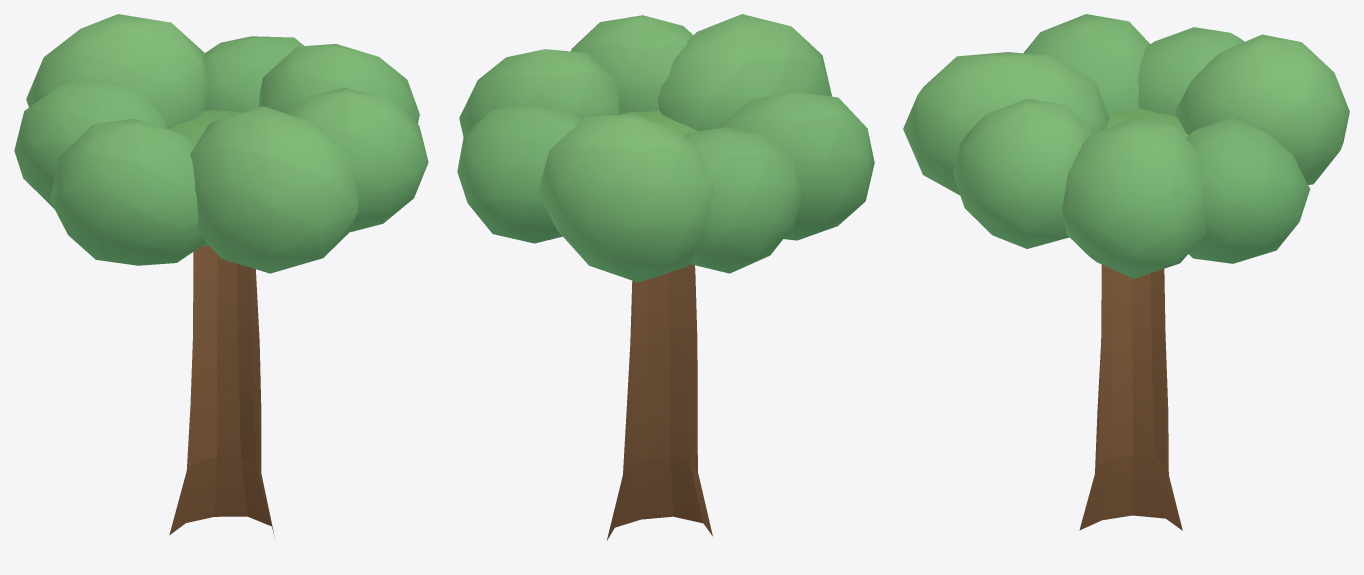
The model's file is climbtree_1.glb.
3 renders of one model, left to right at view 1: azimuth 30°, elevation 25°; view 2: azimuth 150°, elevation 25°; view 3: azimuth 270°, elevation 25°, orthographic.
Parts seen in each view (by area): view 1: climbtree_1; view 2: climbtree_1; view 3: climbtree_1.
Part boxes in pixels (x1,y1,x2,y2): climbtree_1: (14, 14, 428, 537); climbtree_1: (457, 14, 874, 540); climbtree_1: (903, 14, 1349, 530).
Bounding box in the file's own units: 3.25 × 3.96 × 3.37.
